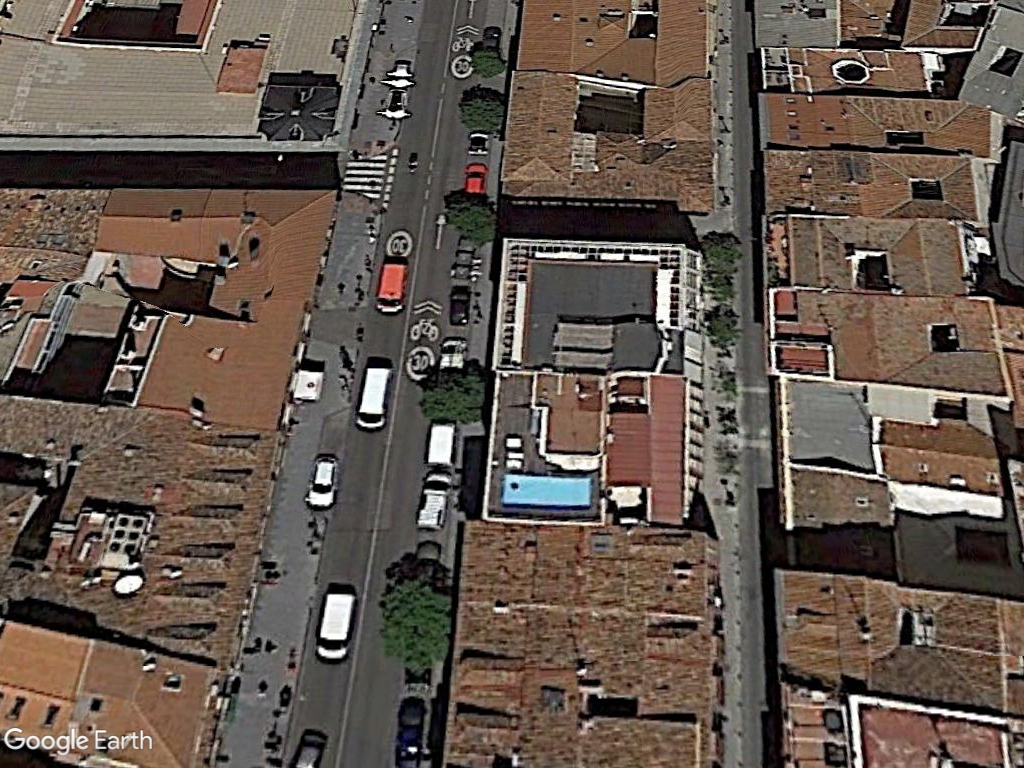car: (307, 453, 341, 510)
truck: (376, 257, 411, 317)
van: (317, 586, 358, 666), (355, 360, 394, 434)
